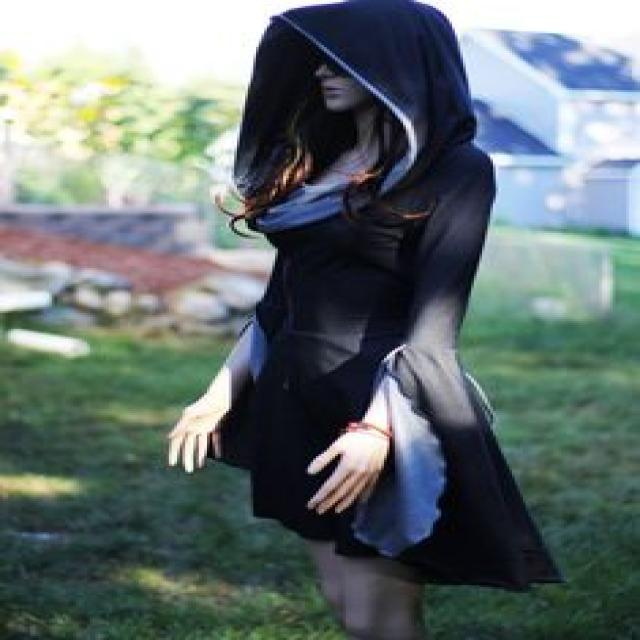4_capucha: (229, 0, 479, 157)
